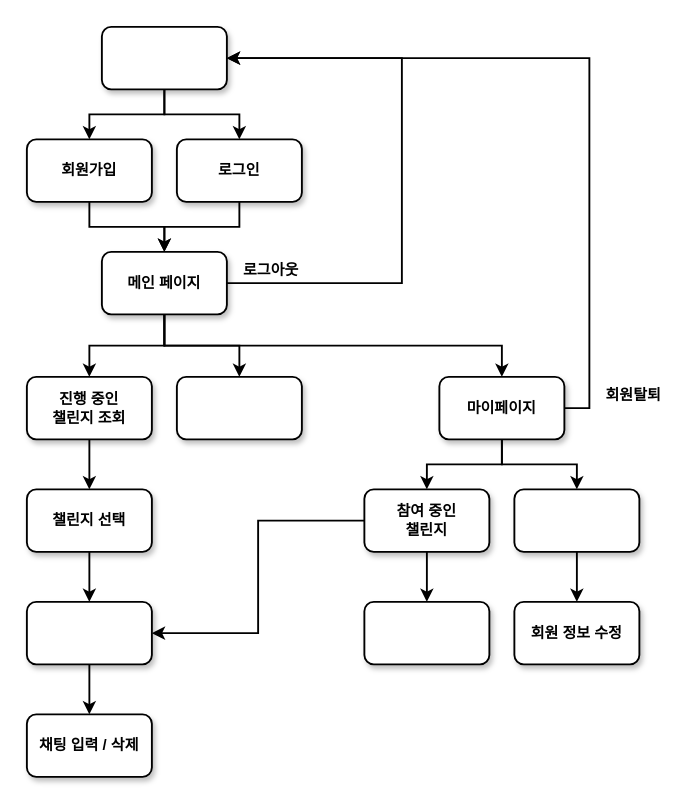
The diagram is 696 pixels wide and 809 high, and some of its shapes have lost their labels. The centre of each missing label's shape, as x and y in pixels:
웹 사이트 접속: point (165, 59)
챌린지 등록: point (240, 409)
챌린지 채팅 나가기: point (427, 634)
챌린지 채팅 입장: point (90, 634)
회원 정보: point (577, 522)
